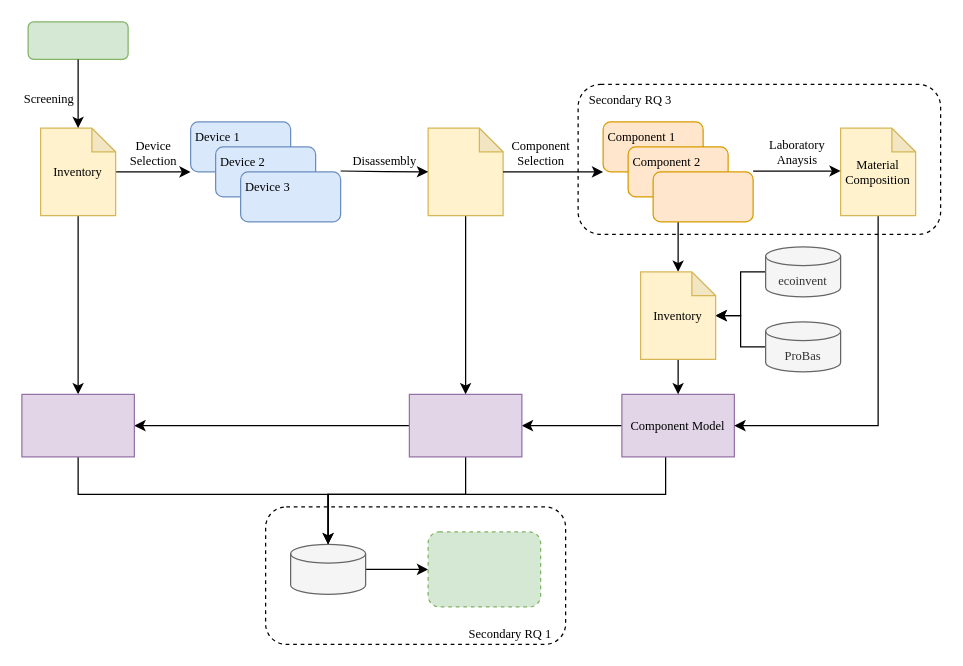
Image size: 963x666. Some labels were removed from this diagram. The box of each missing label's shape, as (x1, y1, x2, y2) in pixels:
BOM: (427, 127, 503, 216)
Component 3: (652, 171, 753, 222)
Cradle to Gate Impact Assessment: (427, 531, 541, 607)
Data Center: (27, 21, 128, 59)
Data Center Model: (21, 393, 134, 457)
Device Model: (408, 393, 522, 457)
LCI: (289, 543, 366, 594)
